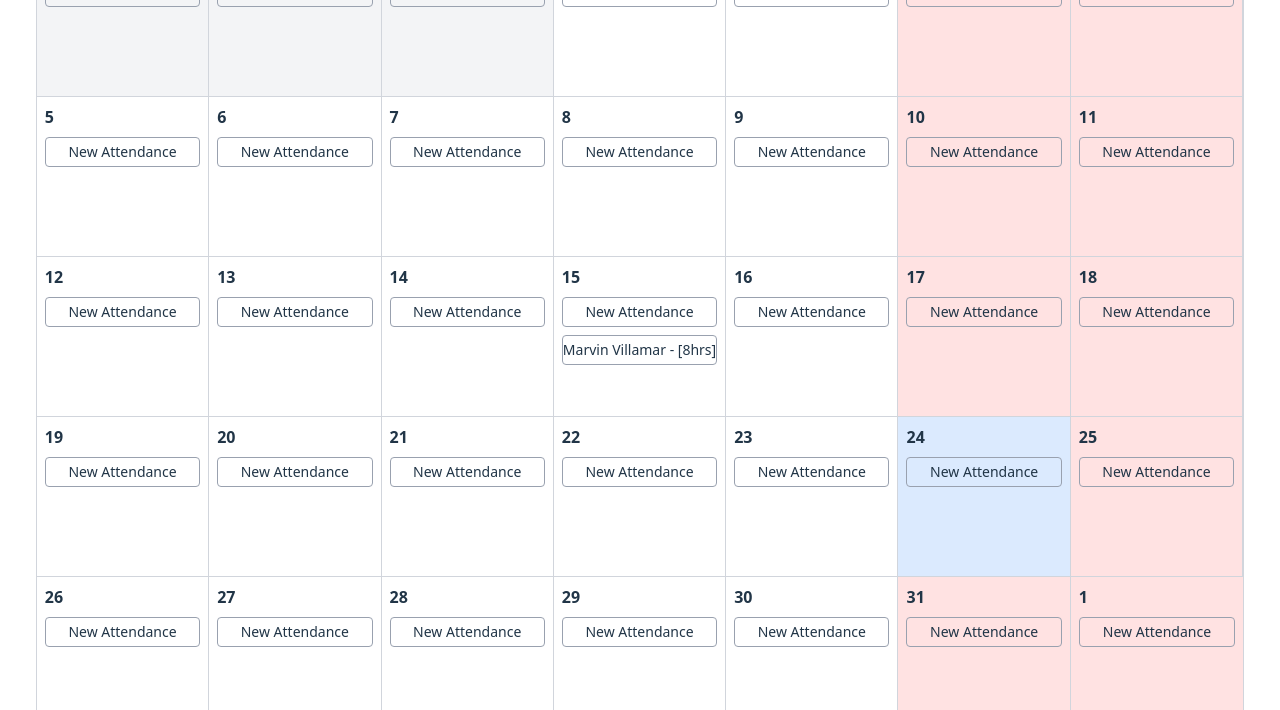
Scenario: Table.vue › Modal Interaction › opens modal with correct shift data when an existing shift is clicked
(page scrolled)
Expected: the text with class "named-attendance" reads "Marvin Villamar - [8hrs]", x1=563 y1=340 x2=716 y2=359
What coordinates should you click on to do the following:
click the text with class "named-attendance"
I would click on:
 (639, 350)
Its box is x1=562 y1=335 x2=717 y2=365.
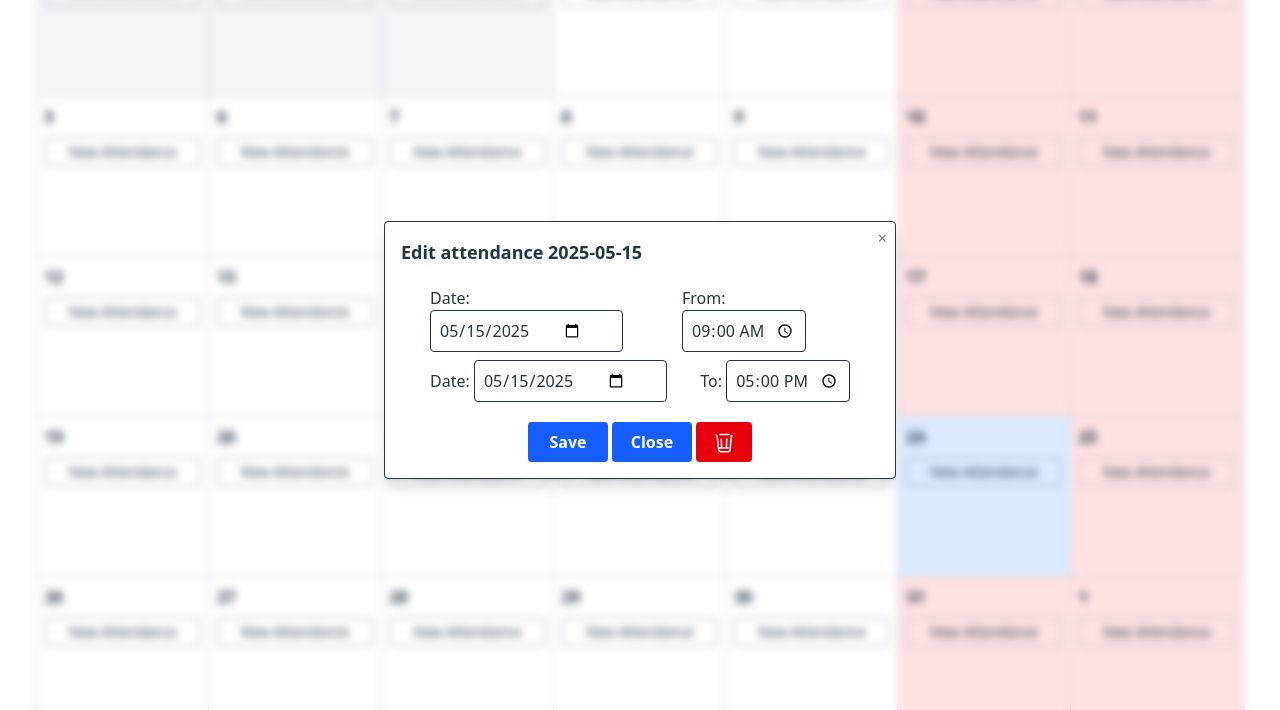
Expected: the element that starts with "Edit attendance 2025-05-15" is shown, x1=384 y1=221 x2=896 y2=479
